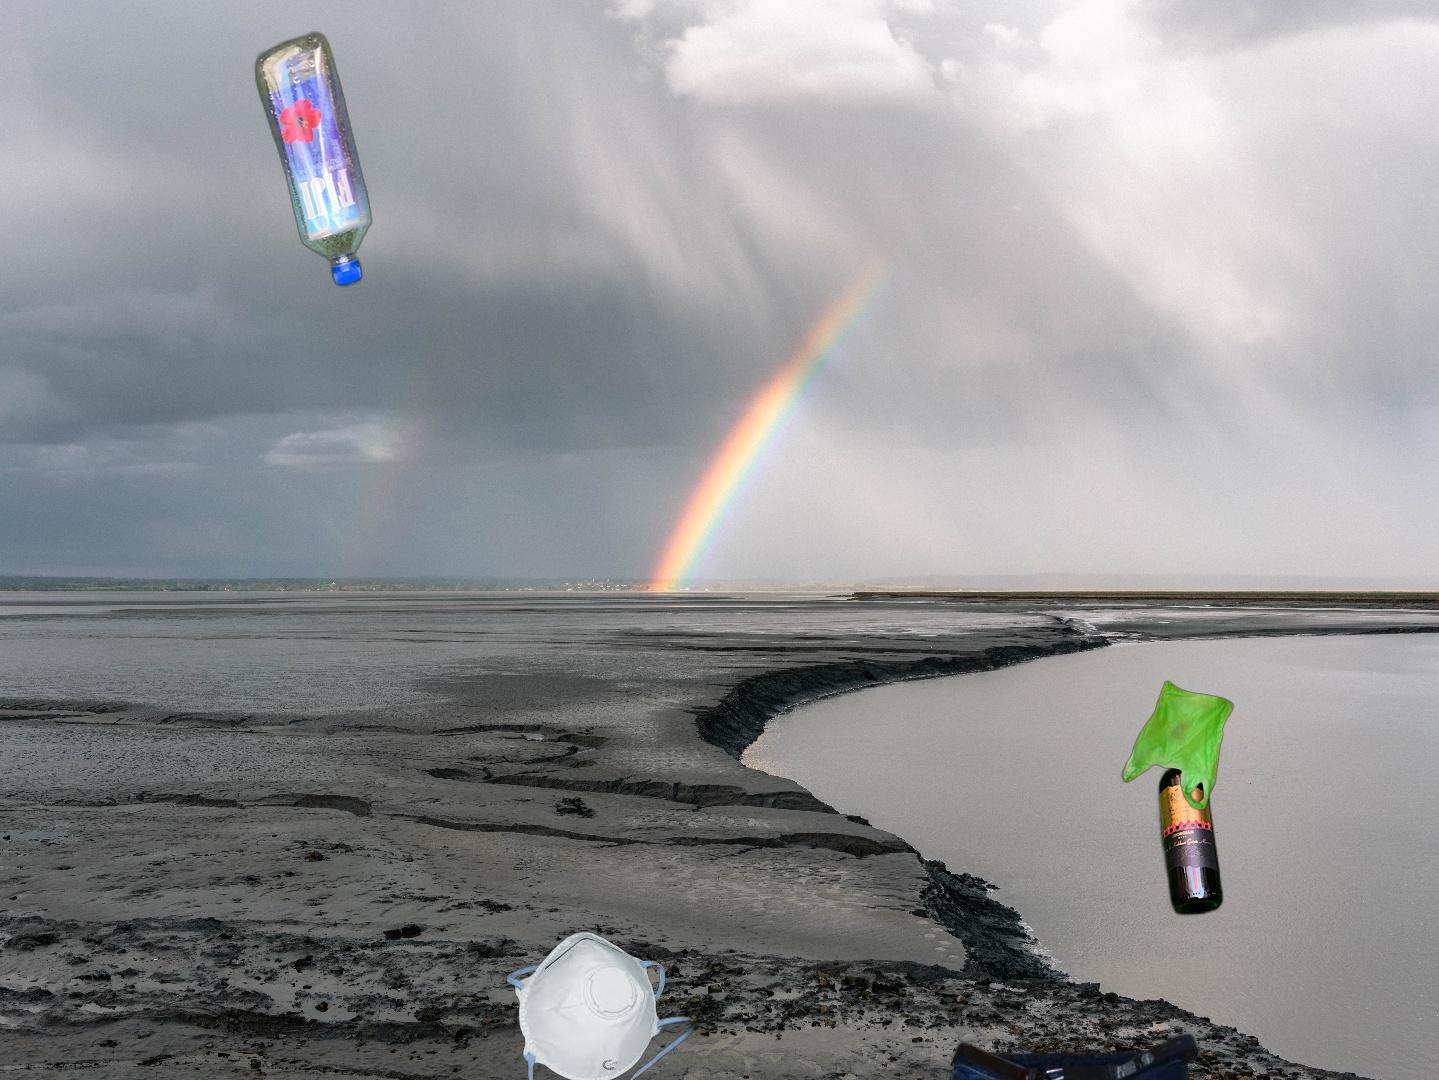clothes: (856, 1027, 1256, 1080)
glass: (1154, 707, 1228, 921)
plastic-bag: (1120, 678, 1235, 813)
plastic-bottles: (252, 26, 376, 292)
trash: (503, 929, 697, 1080)
